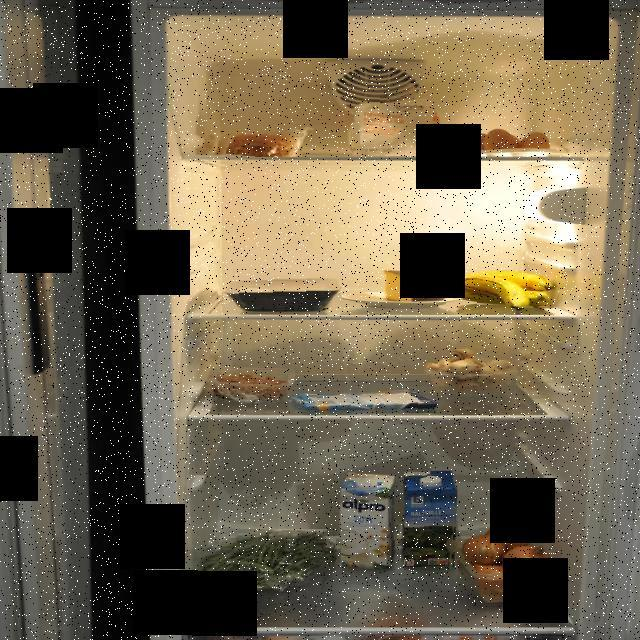banana: (446, 270, 560, 308)
bread: (226, 128, 304, 158)
cheese: (382, 268, 448, 305)
chicken_breast: (222, 275, 342, 311)
chocolate: (300, 386, 442, 413)
eggs: (458, 126, 550, 158)
flour: (346, 96, 444, 156)
green_beans: (200, 529, 328, 609)
milk: (338, 470, 395, 571), (404, 468, 457, 570)
mushrooms: (424, 348, 516, 396)
onion: (462, 525, 560, 606)
shrimp: (205, 367, 294, 404)
